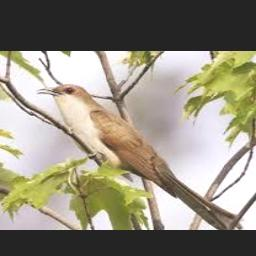Cuckoo: (36, 84, 245, 230)
